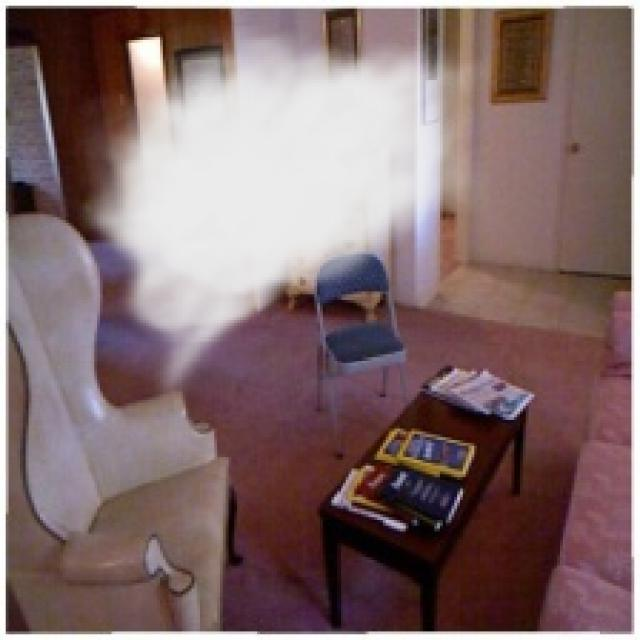smoke: (72, 23, 494, 411)
